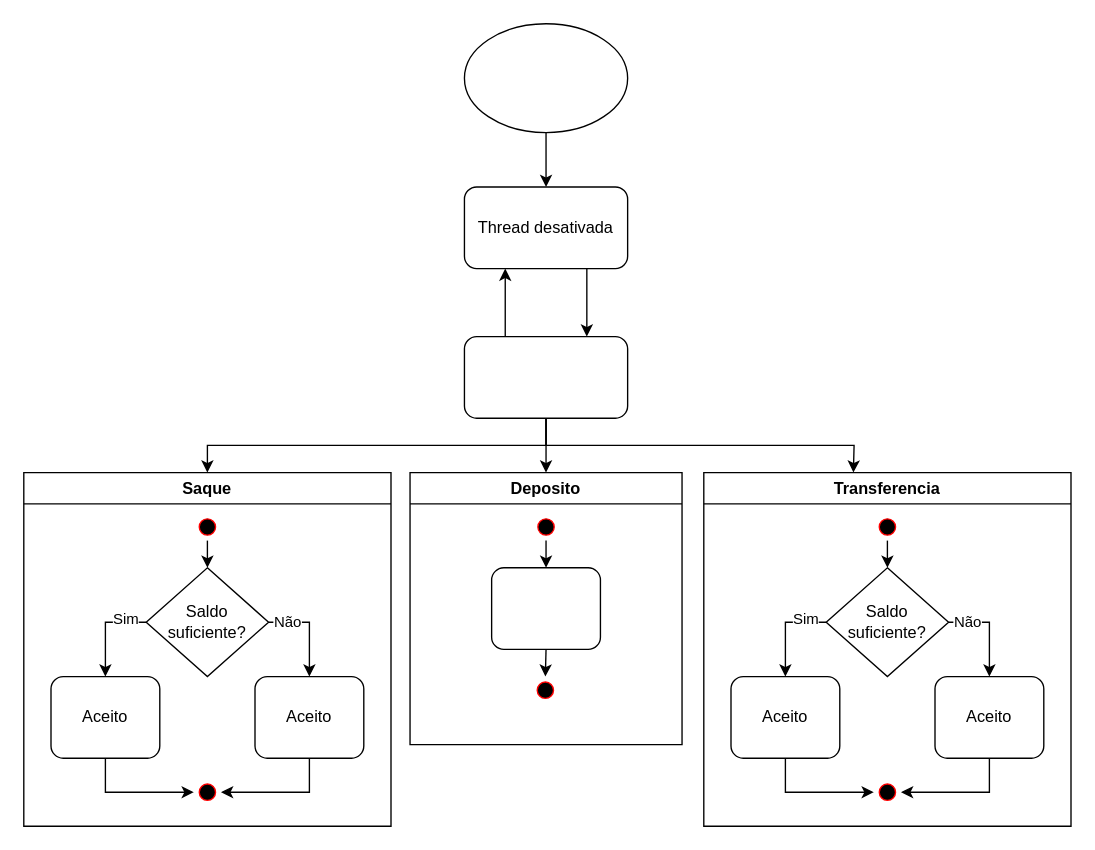
Image size: 1095x850. Some labels were removed from this diagram. The centre of each missing label's shape, as x and y in pixels:
"Depositar" goes at point 545,607.
"Inicio" goes at point 545,77.
"Thread ativada" goes at point 545,376.
